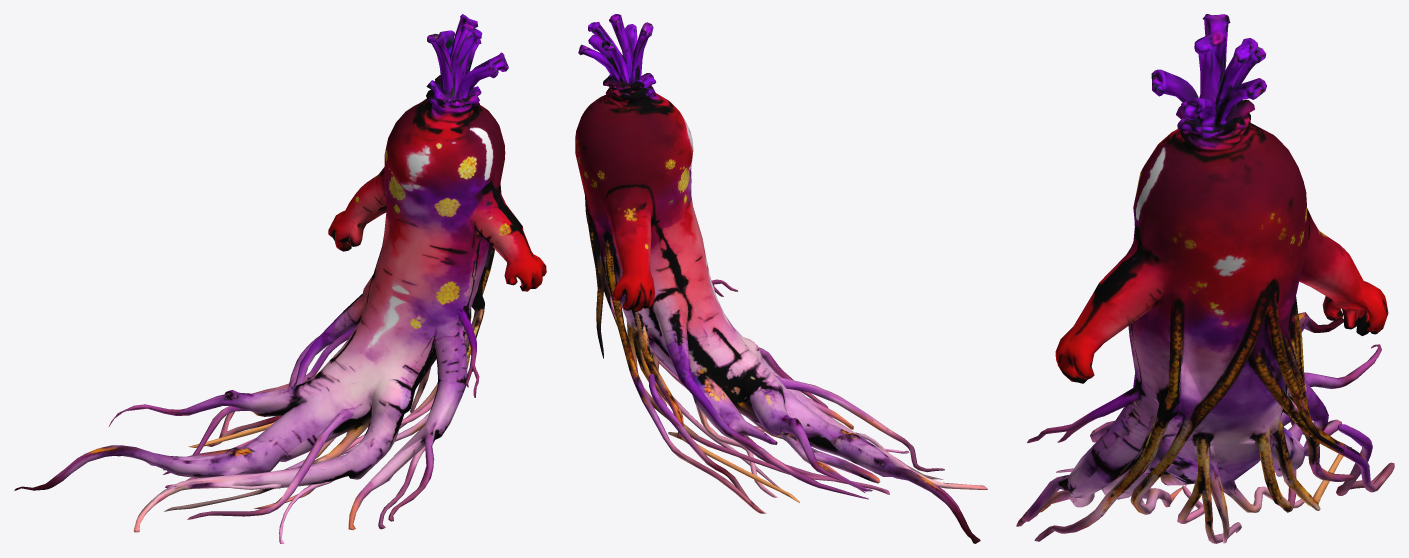
File: 紫阳参.glb
The picture shows the model from 3 angles, left to right: view 1: azimuth 30°, elevation 25°; view 2: azimuth 150°, elevation 25°; view 3: azimuth 270°, elevation 25°; orthographic projection. The views are drawn at different scales.
Visible parts, largest first — view 1: node_0; view 2: node_0; view 3: node_0.
Boxes of the visible parts, <box> form: node_0: <box>14,14,546,543</box>; node_0: <box>575,14,987,543</box>; node_0: <box>1016,14,1394,543</box>.
Size of the model in its own units: 0.9032 by 0.8375 by 0.4624.
Materials: 1 (1 with a texture image).
